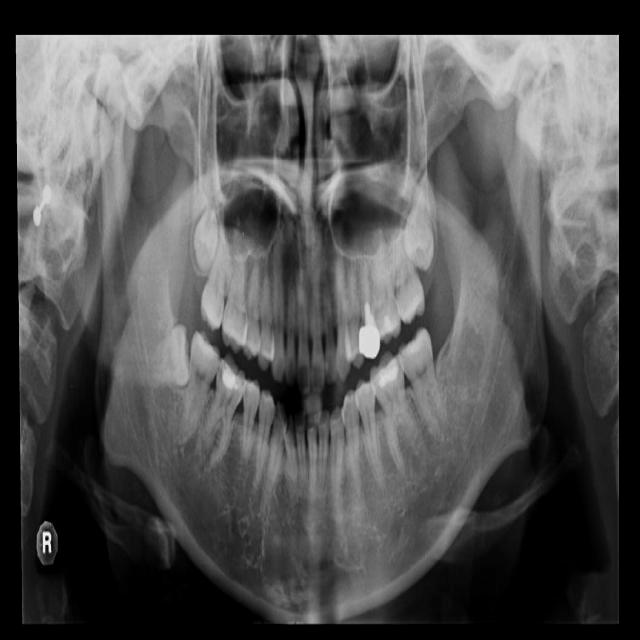Crown: (358, 319, 380, 359)
Filling: (373, 356, 401, 387), (223, 363, 243, 394), (380, 314, 396, 335)
Periapical lesion: (177, 432, 195, 455), (199, 458, 210, 473)
impacted tooth: (139, 323, 191, 387), (402, 171, 433, 269), (194, 196, 219, 271)
